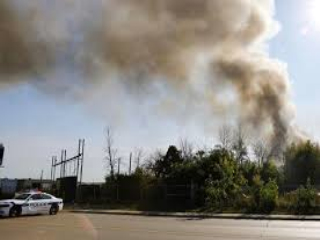smoke: (203, 28, 312, 176)
